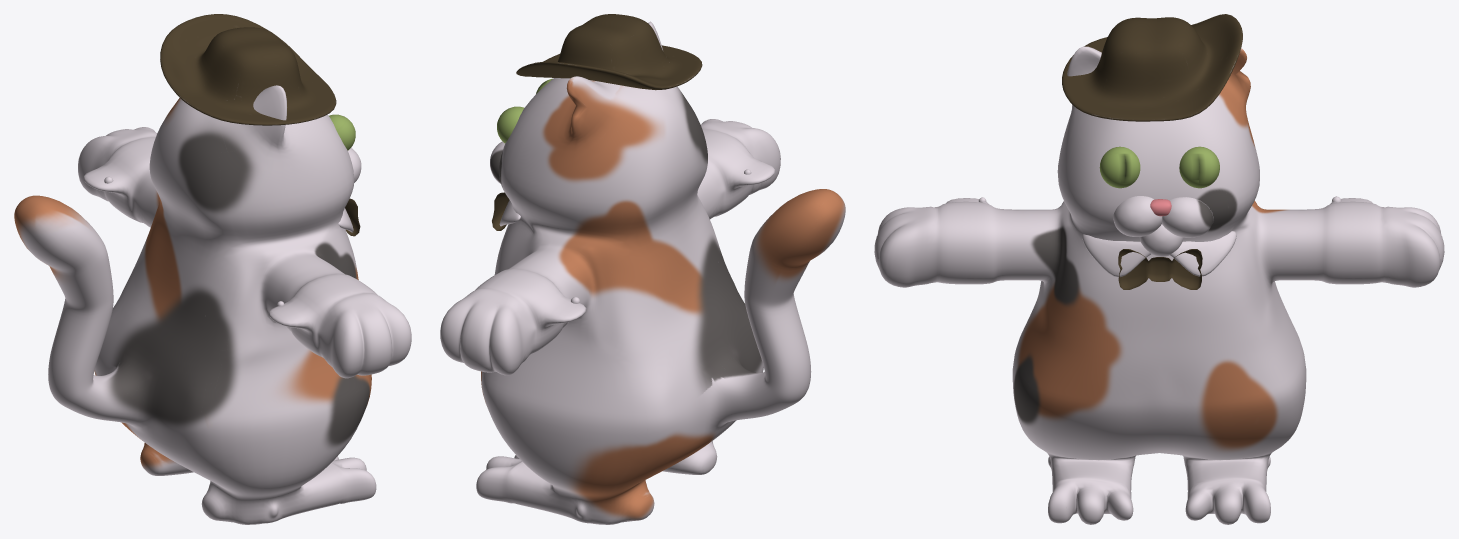
File: gatoAlterado 1.fbx
3 views of the same model, side by side, from view 1: azimuth 30°, elevation 25°; view 2: azimuth 150°, elevation 25°; view 3: azimuth 270°, elevation 25° (orthographic). The views are drawn at different scales.
Visible parts, largest first — view 1: DefinedCat; view 2: DefinedCat; view 3: DefinedCat.
Part boxes in pixels (box(x1,y1,x2,y2)): DefinedCat: box(14, 14, 411, 524); DefinedCat: box(440, 14, 845, 524); DefinedCat: box(874, 14, 1444, 524).
Size of the model in its own units: 96.42 by 125 by 140.
